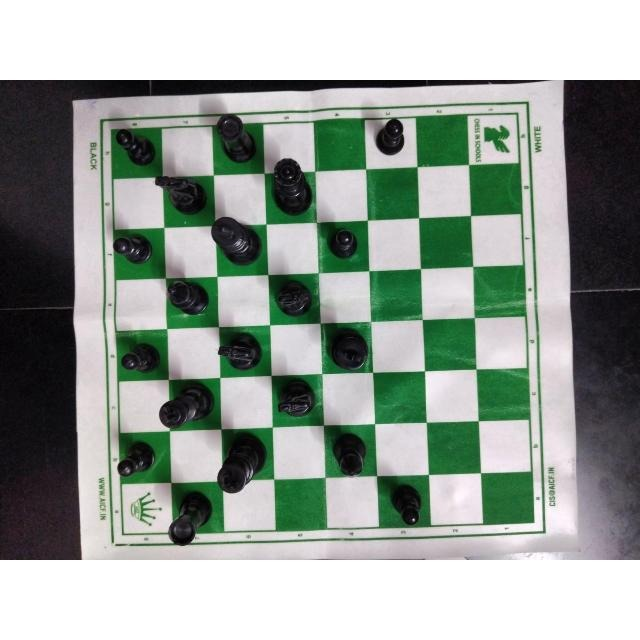black-bishop: (329, 431, 373, 480), (164, 277, 214, 318)
black-king: (211, 434, 271, 498), (153, 383, 219, 430), (208, 217, 264, 267), (323, 325, 373, 377)
black-knight: (151, 170, 213, 215), (215, 329, 269, 376), (273, 378, 322, 425), (270, 278, 318, 324)
black-pawn: (381, 477, 425, 528), (364, 115, 411, 161), (112, 438, 161, 480), (110, 231, 159, 269), (112, 127, 157, 168), (116, 343, 165, 378), (322, 222, 361, 261)
black-queen: (265, 153, 316, 220)
black-rook: (163, 490, 215, 550), (207, 113, 259, 163)
